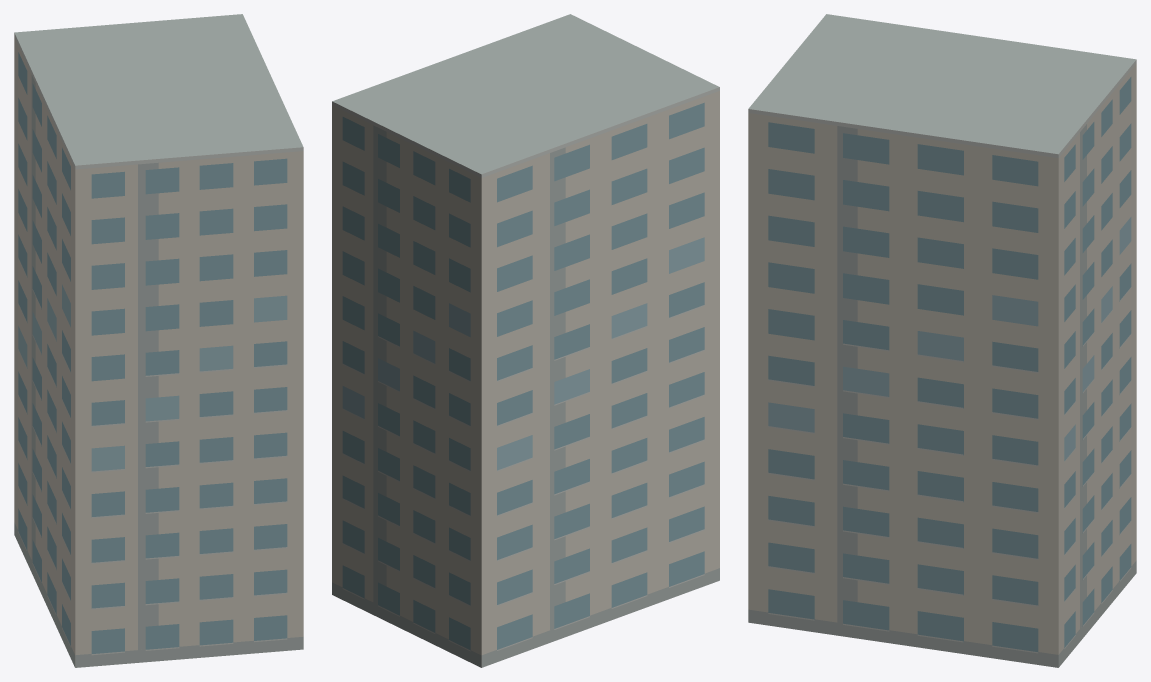
The model's file is survey-upis-32973375.glb.
The picture shows the model from 3 angles, left to right: view 1: azimuth 30°, elevation 25°; view 2: azimuth 150°, elevation 25°; view 3: azimuth 270°, elevation 25°; orthographic projection. The views are drawn at different scales.
Parts seen in each view (by area): view 1: survey-upis-32973375.tmp; view 2: survey-upis-32973375.tmp; view 3: survey-upis-32973375.tmp.
Part boxes in pixels (x1,y1,x2,y2): survey-upis-32973375.tmp: [14, 14, 303, 667]; survey-upis-32973375.tmp: [332, 14, 719, 667]; survey-upis-32973375.tmp: [748, 14, 1136, 667].
Size of the model in its own units: 18.69 by 31.9 by 21.87.
